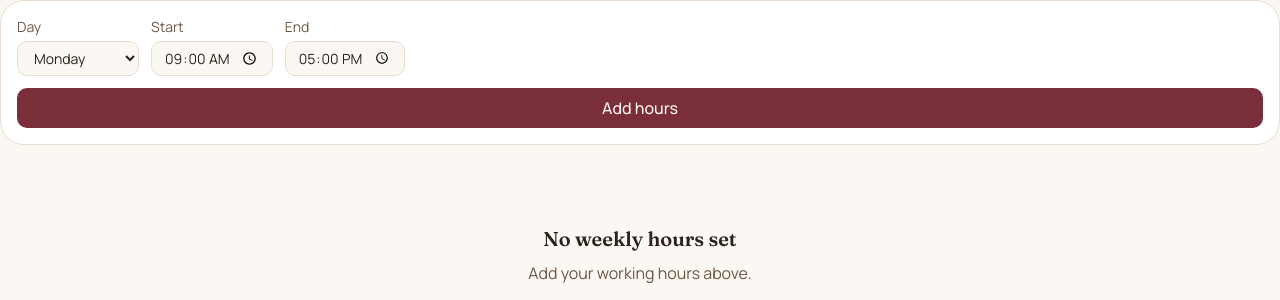
Test: RulesSection › creates a new rule via the form
Expected: the heading "No weekly hours set" is shown, [543,225,737,253]
Click the button "Add hours": (640, 108) [17,88,1263,128]
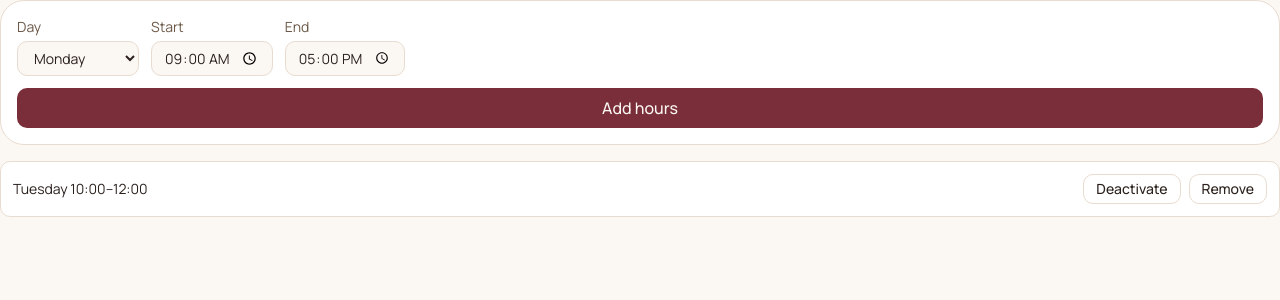
Expected: the text "Tuesday 10:00–12:00" is shown, [13,179,148,199]
